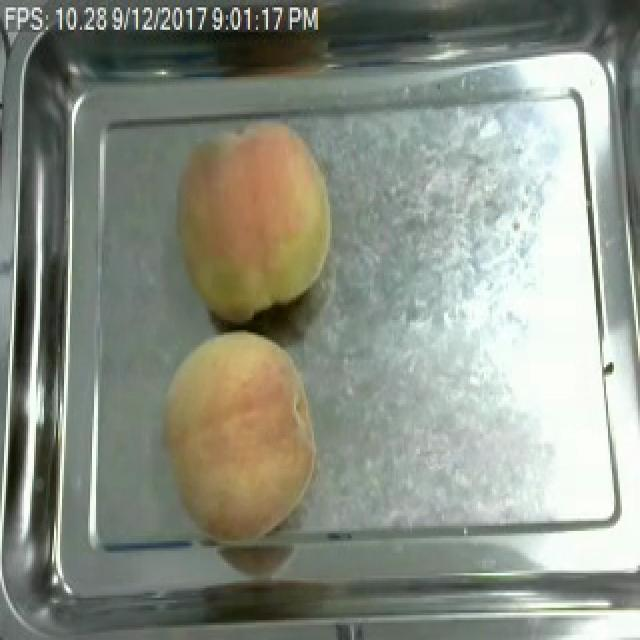Fruit: (168, 109, 344, 328), (152, 322, 324, 544)
